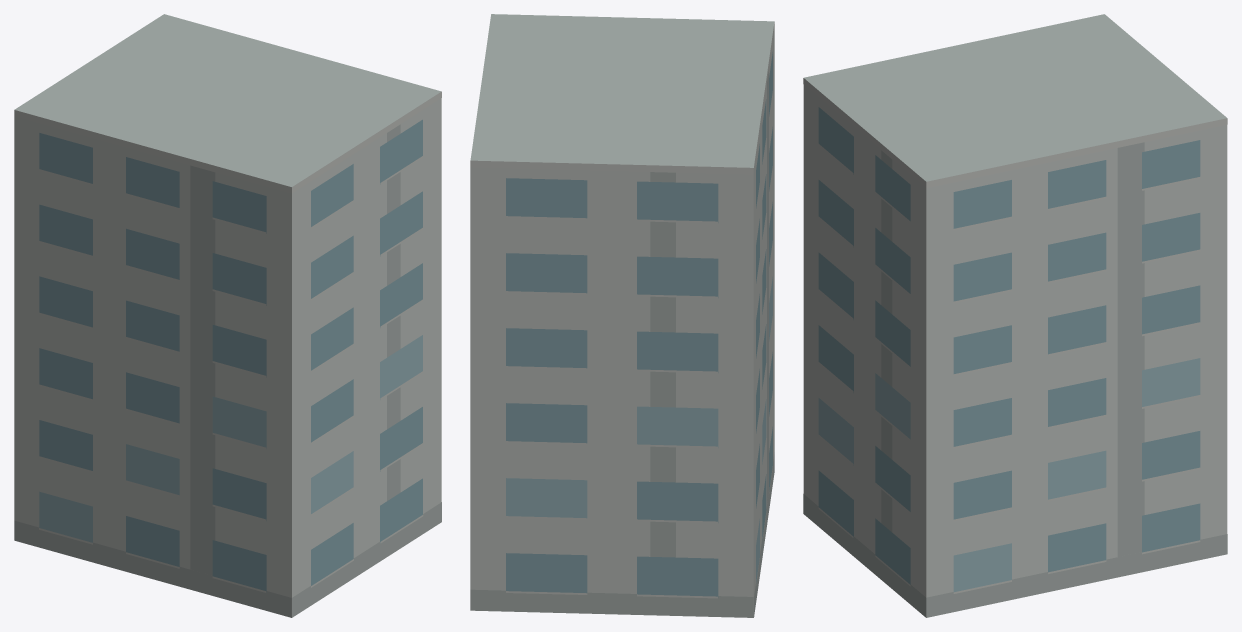
File: survey-upis-32696701.glb
The picture shows the model from 3 angles, left to right: view 1: azimuth 30°, elevation 25°; view 2: azimuth 150°, elevation 25°; view 3: azimuth 270°, elevation 25°; orthographic projection. The views are drawn at different scales.
Parts seen in each view (by area): view 1: survey-upis-32696701.tmp; view 2: survey-upis-32696701.tmp; view 3: survey-upis-32696701.tmp.
Part boxes in pixels (bbox=[...]): survey-upis-32696701.tmp: bbox=[14, 14, 441, 617]; survey-upis-32696701.tmp: bbox=[470, 14, 774, 617]; survey-upis-32696701.tmp: bbox=[803, 14, 1227, 617].
Bounding box in the file's own units: 13.29 × 16.1 × 14.2.
